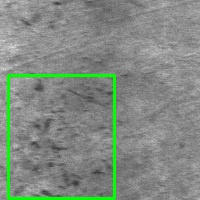rolled-in_scale: (8, 75, 114, 198), (1, 1, 71, 31)
